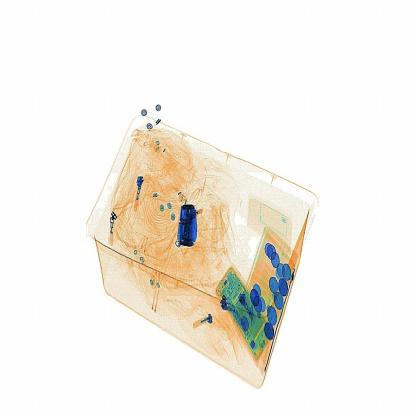scissors: (172, 197, 206, 247)
